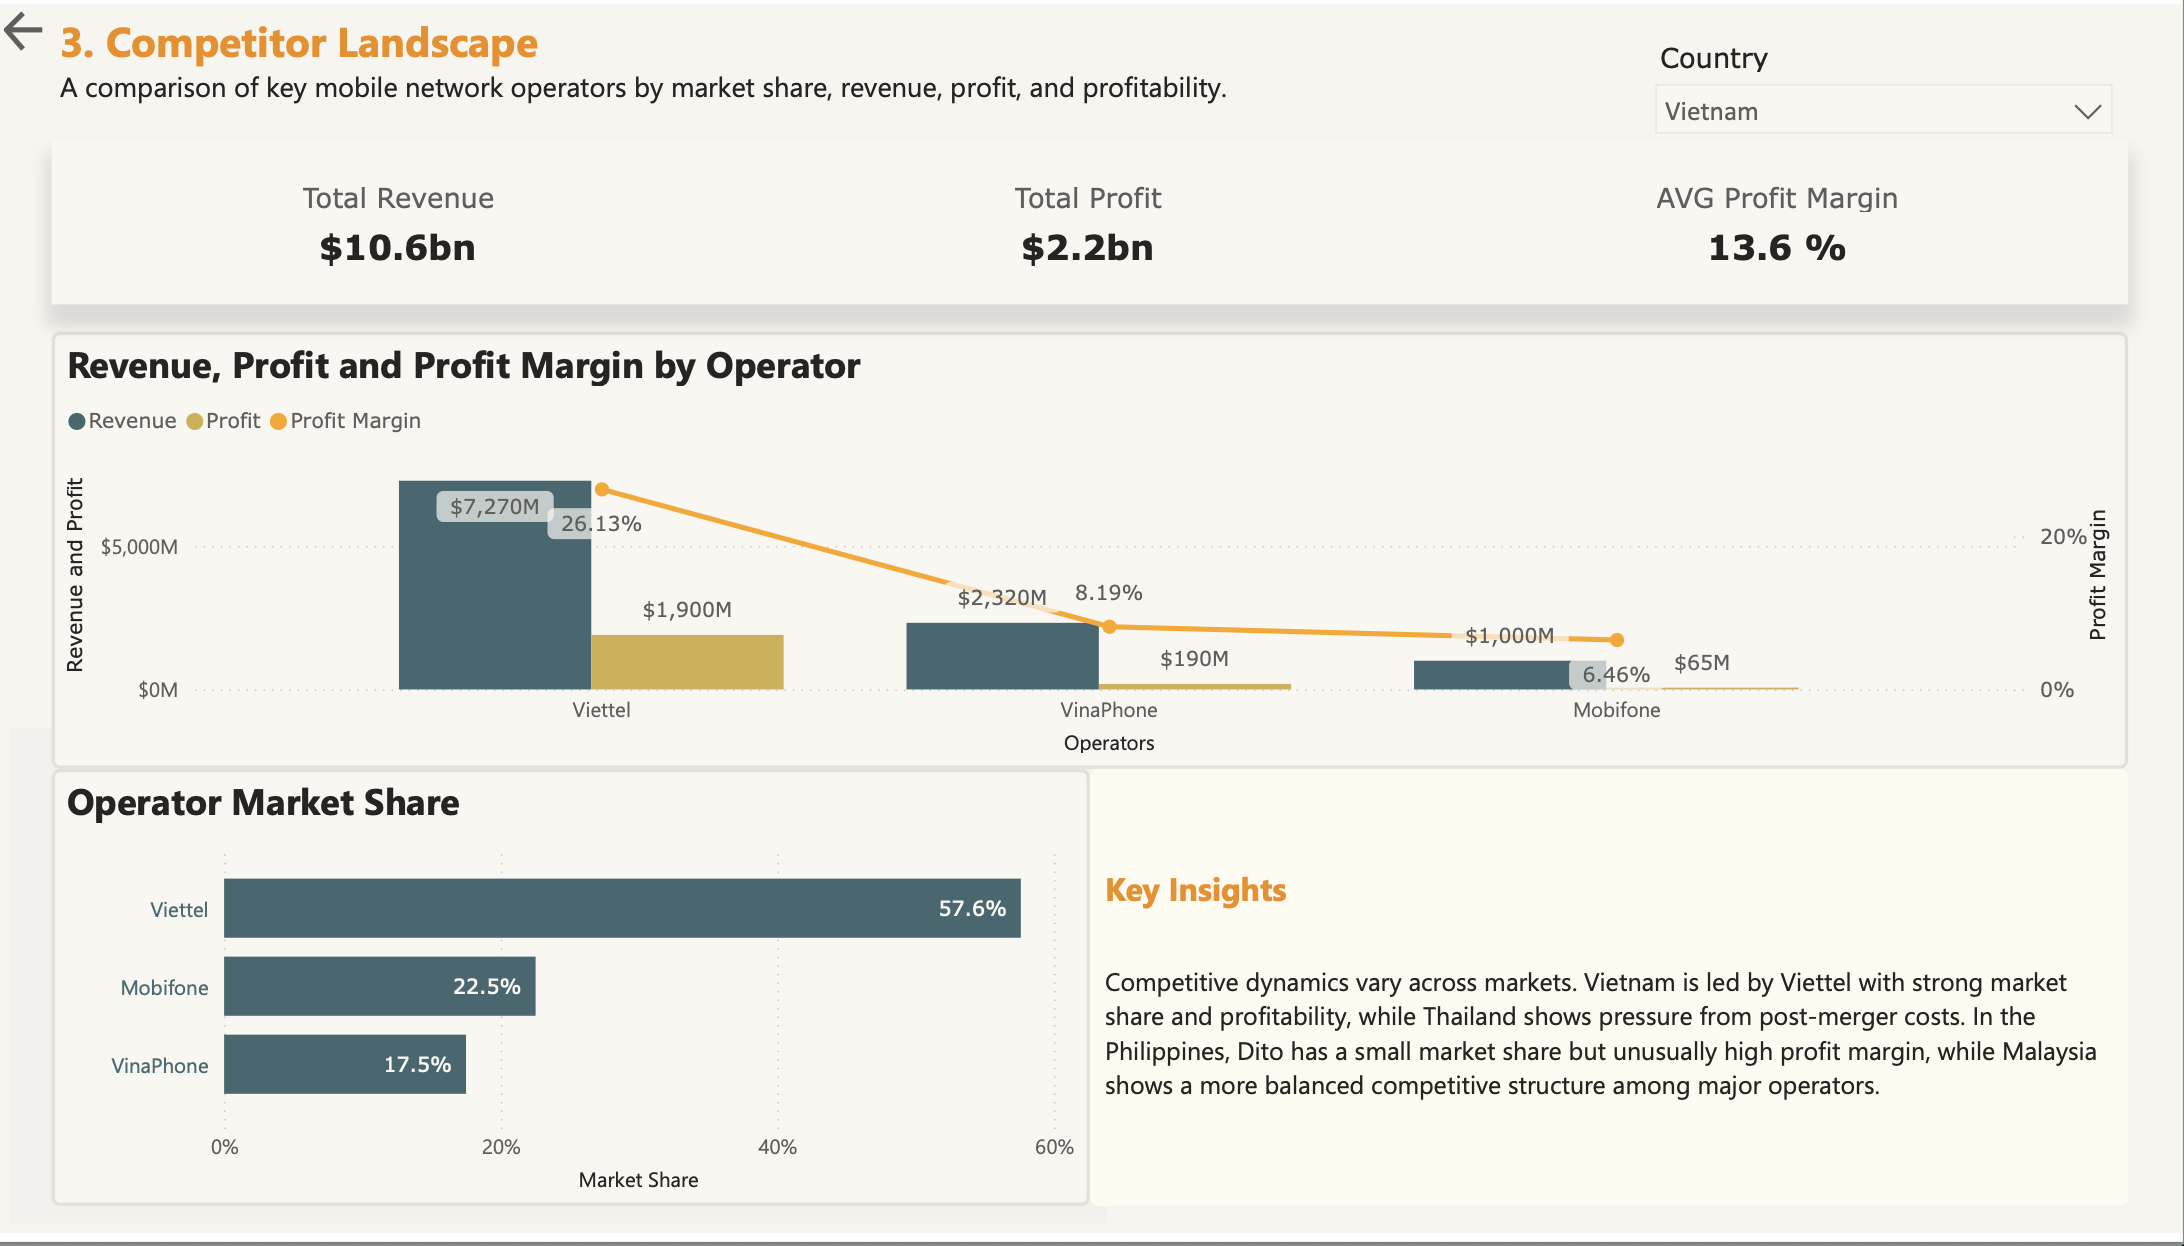

Layout of this report page (visuals, bound fields, positions):
{"tool":"powerbi","page":{"name":"3. Competitor Landscape","canvas":[1280,720],"ordinal":2},"visuals":[{"type":"clusteredBarChart","title":"Operator Market Share","fields":{"Category":["Mobile Network Operators.Operators"],"Y":["Sum(Mobile Network Operators.Market Share )"]},"box":[32,448,608,256],"z":0},{"type":"lineClusteredColumnComboChart","title":"Revenue, Profit and Profit Margin by Operator","fields":{"Category":["Mobile Network Operators.Operators"],"Y":["Sum(Mobile Network Operators.Revenue)","Sum(Mobile Network Operators.Profit)"],"Y2":["Sum(Mobile Network Operators.Profit Margin)"]},"box":[32,192,1216,256],"z":1000},{"type":"slicer","fields":{"Values":["Market Overview.Country"]},"box":[960.7,15.7,287.8,65.9],"z":2000},{"type":"cardVisual","fields":{"Data":["Sum(Mobile Network Operators.Revenue)","Sum(Mobile Network Operators.Profit)","Avg(Mobile Network Operators.Profit Margin)"]},"box":[32,80,1216,96],"z":3000},{"type":"textbox","box":[32,0,848,64],"z":4000},{"type":"textbox","box":[640,448,608,256],"z":5000},{"type":"actionButton","box":[0,0,32,32],"z":7000}]}

Visuals, with their boxes in screenshot pixels (x1, y1, x2, y2), scaled from the page's 1280x720 canvas onto the 2184x1246 screenshot:
"Operator Market Share" clusteredBarChart: [x1=55, y1=775, x2=1092, y2=1218]
"Revenue, Profit and Profit Margin by Operator" lineClusteredColumnComboChart: [x1=55, y1=332, x2=2129, y2=775]
slicer - Market Overview.Country: [x1=1639, y1=27, x2=2130, y2=141]
cardVisual - Sum(Mobile Network Operators.Revenue) x Sum(Mobile Network Operators.Profit): [x1=55, y1=138, x2=2129, y2=305]
textbox: [x1=55, y1=0, x2=1502, y2=111]
textbox: [x1=1092, y1=775, x2=2129, y2=1218]
actionButton: [x1=0, y1=0, x2=55, y2=55]
